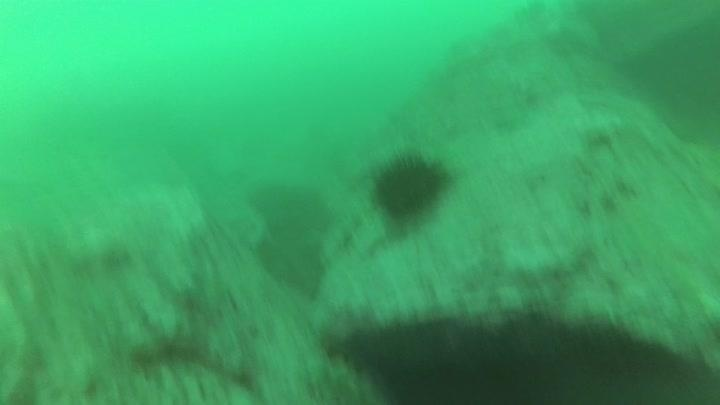echinus: (366, 148, 453, 228)
